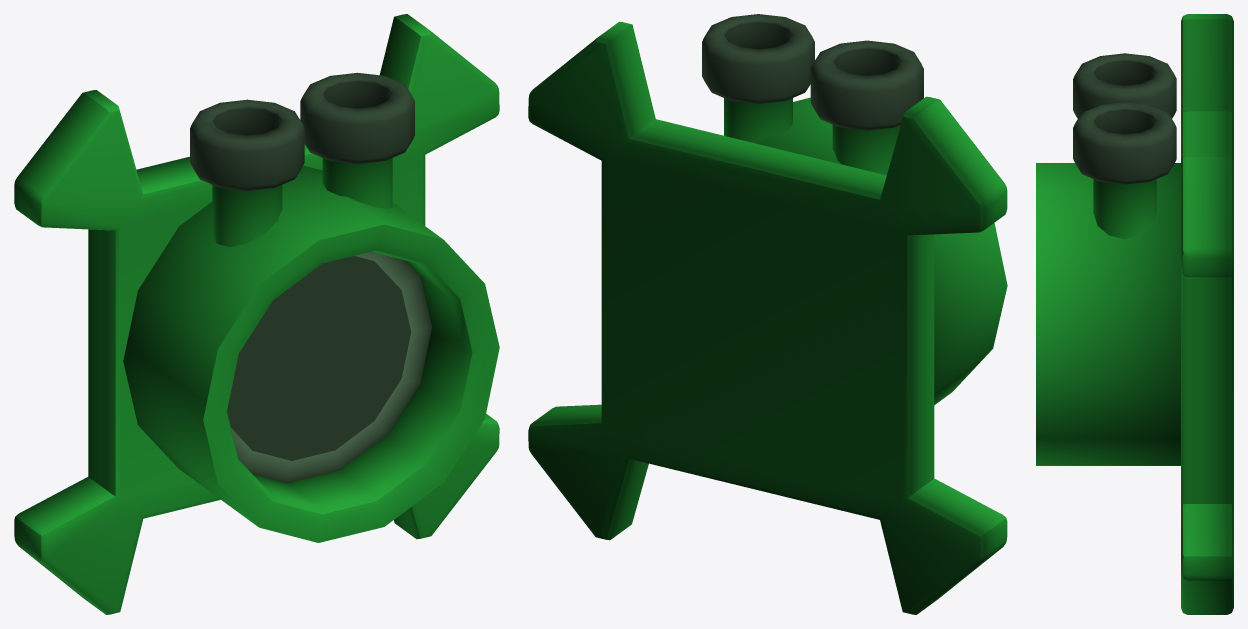
File: Procesor_Cooling_lvl_08_V05.fbx
3 views of the same model, side by side, from view 1: azimuth 30°, elevation 25°; view 2: azimuth 150°, elevation 25°; view 3: azimuth 270°, elevation 25° (orthographic). The views are drawn at different scales.
Parts seen in each view (by area): view 1: Procesor_Cooling_lvl_08; view 2: Procesor_Cooling_lvl_08; view 3: Procesor_Cooling_lvl_08.
Part boxes in pixels (left/top/right/bottom): Procesor_Cooling_lvl_08: left=14, top=14, right=499, bottom=614; Procesor_Cooling_lvl_08: left=528, top=14, right=1007, bottom=614; Procesor_Cooling_lvl_08: left=1036, top=14, right=1233, bottom=614.
Size of the model in its own units: 44.66 by 46.75 by 18.29.
